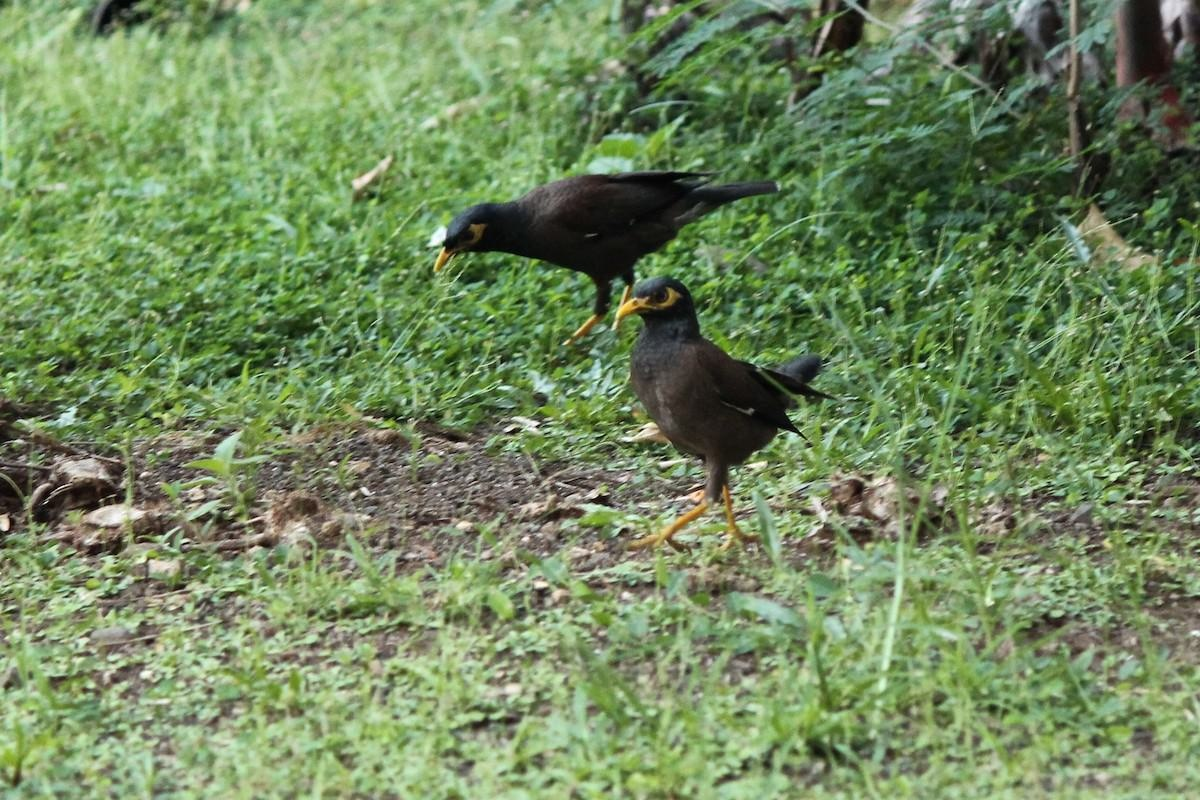myna: (593, 282, 833, 571)
